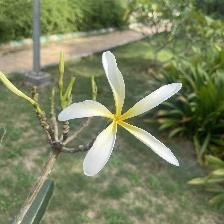champaka: (59, 50, 188, 181)
